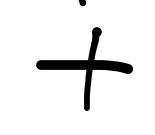plus: (35, 26, 133, 111)
